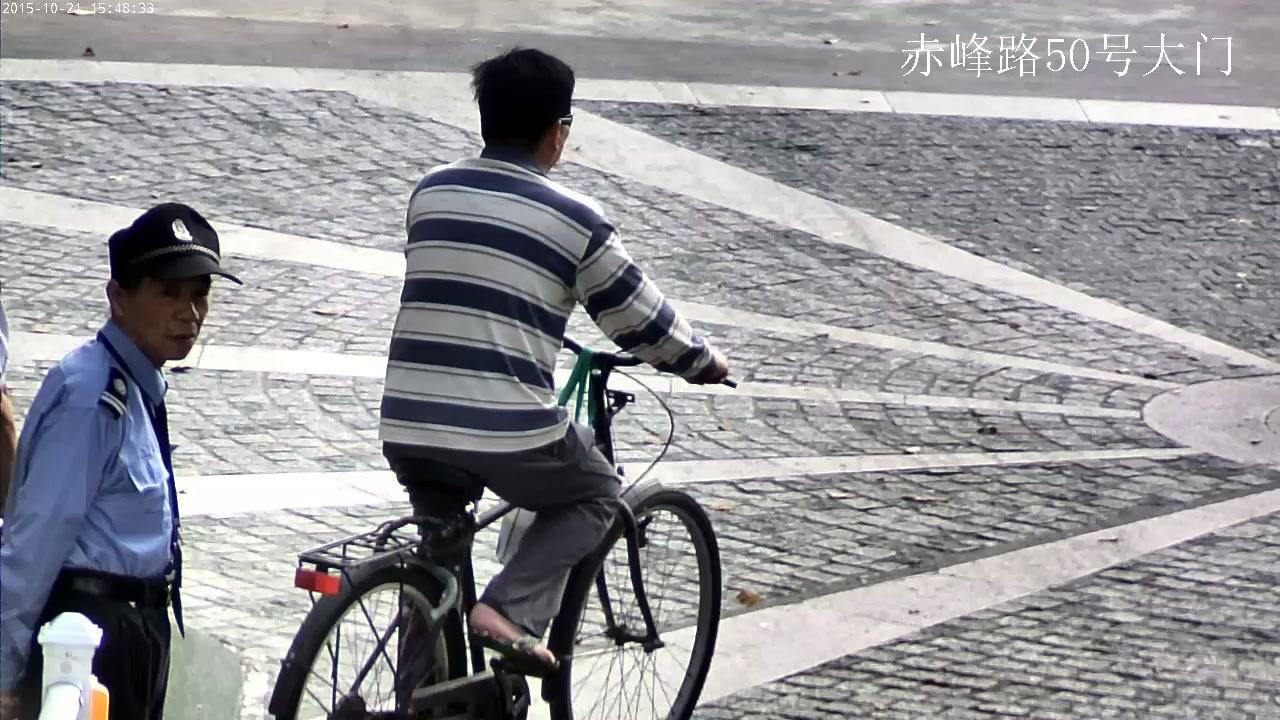face: (121, 275, 211, 359)
